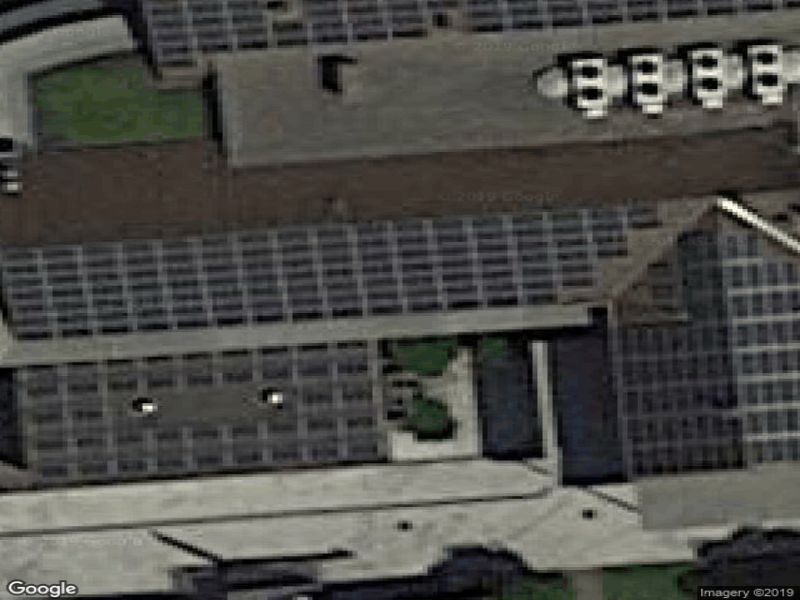pv: (12, 207, 662, 330), (14, 343, 375, 480), (620, 234, 800, 475), (146, 1, 796, 63)
